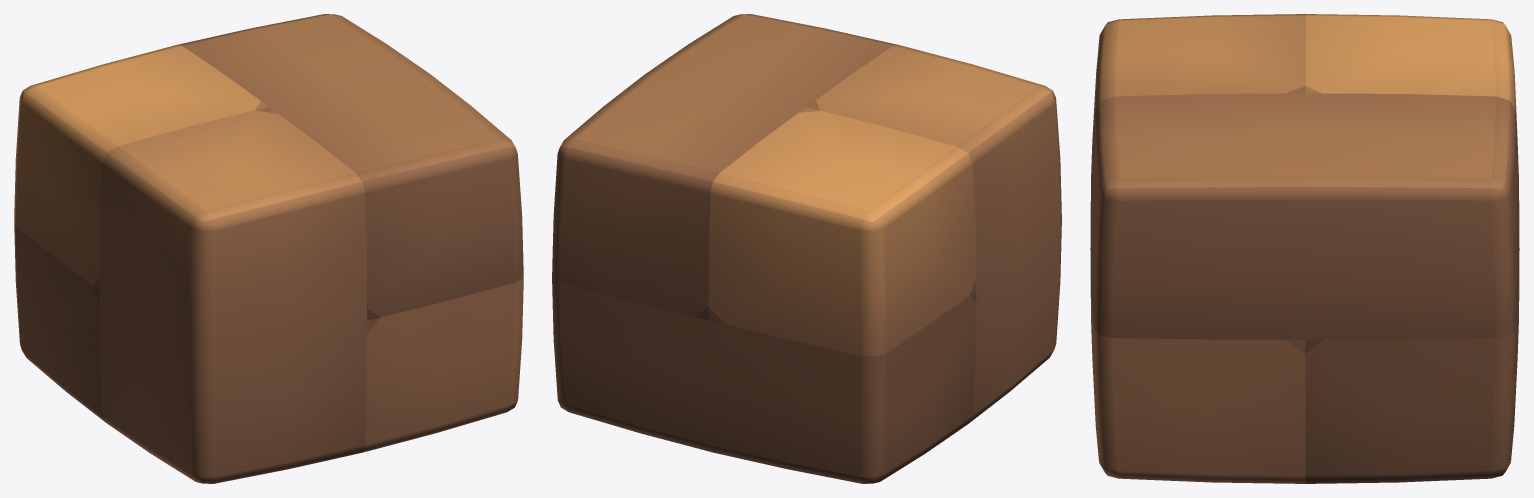
File: ground_cubes3.fbx
3 renders of one model, left to right at view 1: azimuth 30°, elevation 25°; view 2: azimuth 150°, elevation 25°; view 3: azimuth 270°, elevation 25°, orthographic. The views are drawn at different scales.
Parts seen in each view (by area): view 1: ground_cubes3; view 2: ground_cubes3; view 3: ground_cubes3.
Part boxes in pixels (x1,y1,x2,y2): ground_cubes3: [14, 14, 523, 483]; ground_cubes3: [552, 14, 1061, 483]; ground_cubes3: [1090, 14, 1519, 483].
Bounding box in the file's own units: 109 × 86.94 × 109.
Materials: 1 (1 with a texture image).
